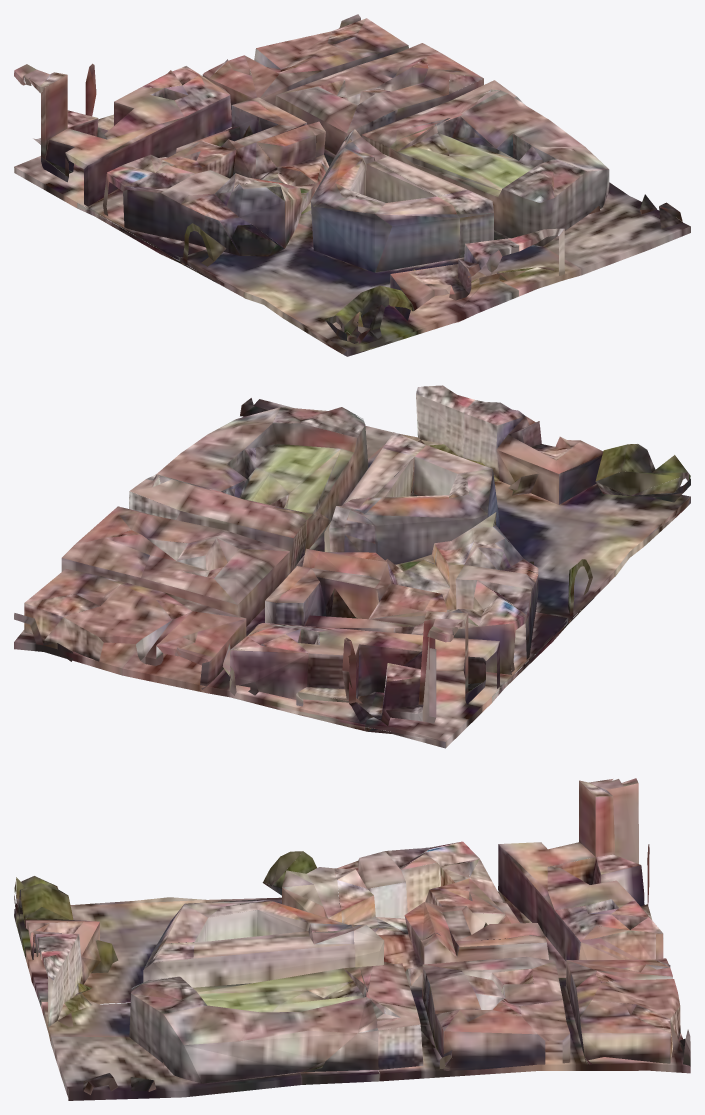
The picture shows the model from 3 angles, top to bottom: view 1: azimuth 30°, elevation 25°; view 2: azimuth 150°, elevation 25°; view 3: azimuth 270°, elevation 25°; orthographic projection. The views are drawn at different scales.
Visible parts, largest first — view 1: Mesh_0; view 2: Mesh_0; view 3: Mesh_0.
Part boxes in pixels (bbox=[...]): Mesh_0: bbox=[14, 14, 690, 356]; Mesh_0: bbox=[14, 385, 690, 748]; Mesh_0: bbox=[14, 778, 690, 1100].
Size of the model in its own units: 266 by 63.1 by 330.
2 materials, 2 textured.
